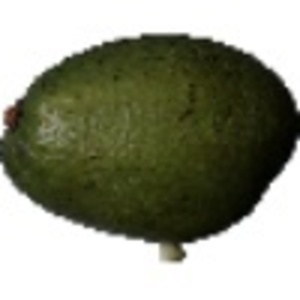abacate: (3, 30, 296, 244)
